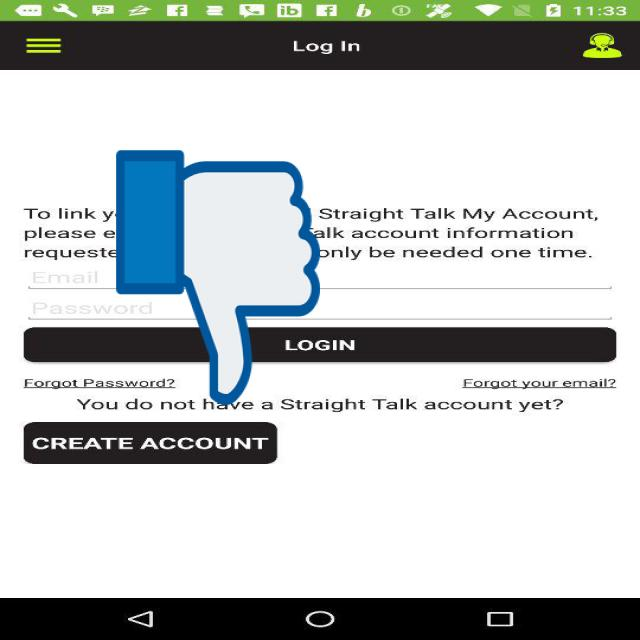obstruction: (116, 144, 320, 410)
